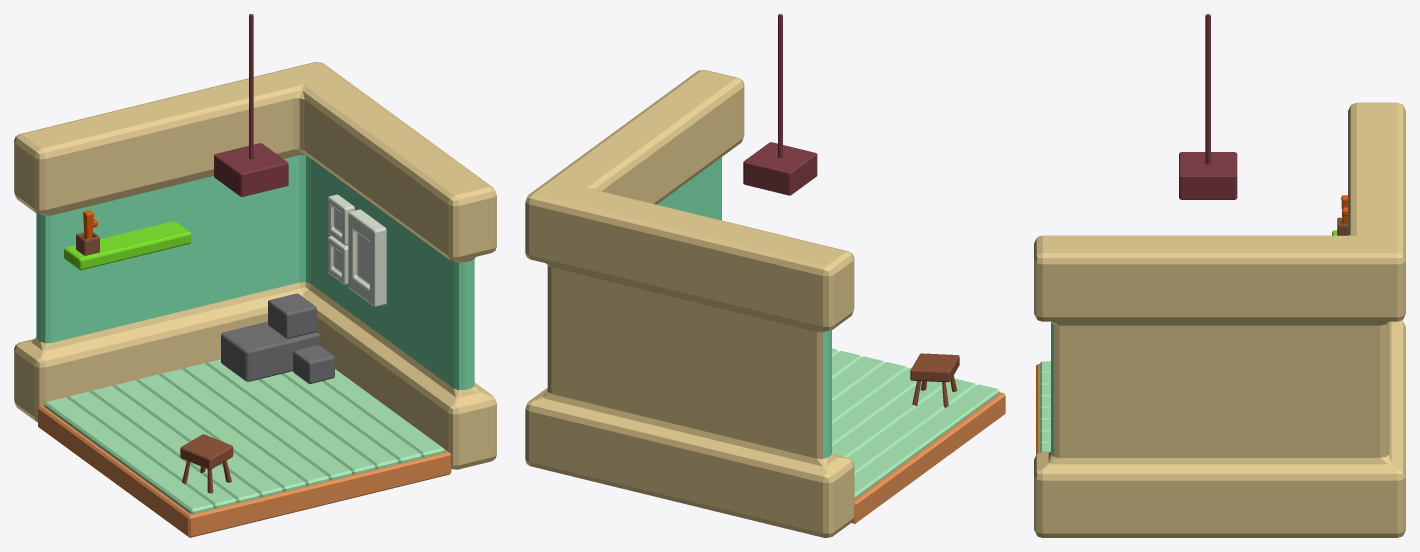
File: HabitacionPruebaTexturas.fbx
3 views of the same model, side by side, from view 1: azimuth 30°, elevation 25°; view 2: azimuth 150°, elevation 25°; view 3: azimuth 270°, elevation 25° (orthographic). The views are drawn at different scales.
Parts seen in each view (by area): view 1: Pared_01, Suelo_01, CajaGrande_01, Lampara_01, CuadroGrande_01, Estanteria_01, CajaMediana_01, Tabuerete_01, CajaMediana_02, CuadroMediano_01, CuadroMediano_02, Cactus_01; view 2: Pared_01, Suelo_01, Lampara_01, Tabuerete_01; view 3: Pared_01, Lampara_01, Suelo_01.
Boxes of the visible parts, x1,y1,x2,y2 form: Pared_01: (14,62,496,469); Suelo_01: (38,359,451,537); CajaGrande_01: (221,321,320,381); Lampara_01: (214,14,288,196); CuadroGrande_01: (348,209,386,306); Estanteria_01: (64,221,191,270); CajaMediana_01: (268,293,316,338); Tabuerete_01: (180,434,233,493); CajaMediana_02: (293,345,334,383); CuadroMediano_01: (328,194,354,245); CuadroMediano_02: (328,236,348,284); Cactus_01: (76,210,99,255); Pared_01: (525,70,854,537); Suelo_01: (832,348,1005,523); Lampara_01: (743,14,817,195); Tabuerete_01: (910,353,959,407); Pared_01: (1034,102,1405,537); Lampara_01: (1179,14,1237,199); Suelo_01: (1036,361,1050,454).
Size of what is drawn, in the model's own units: 1886 by 2489 by 1886.
